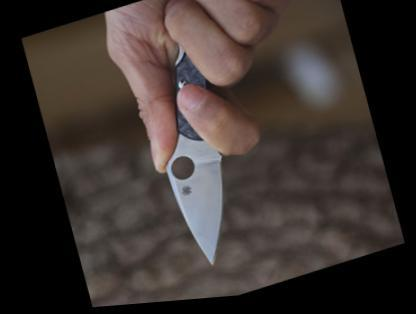knife: (104, 0, 309, 288)
